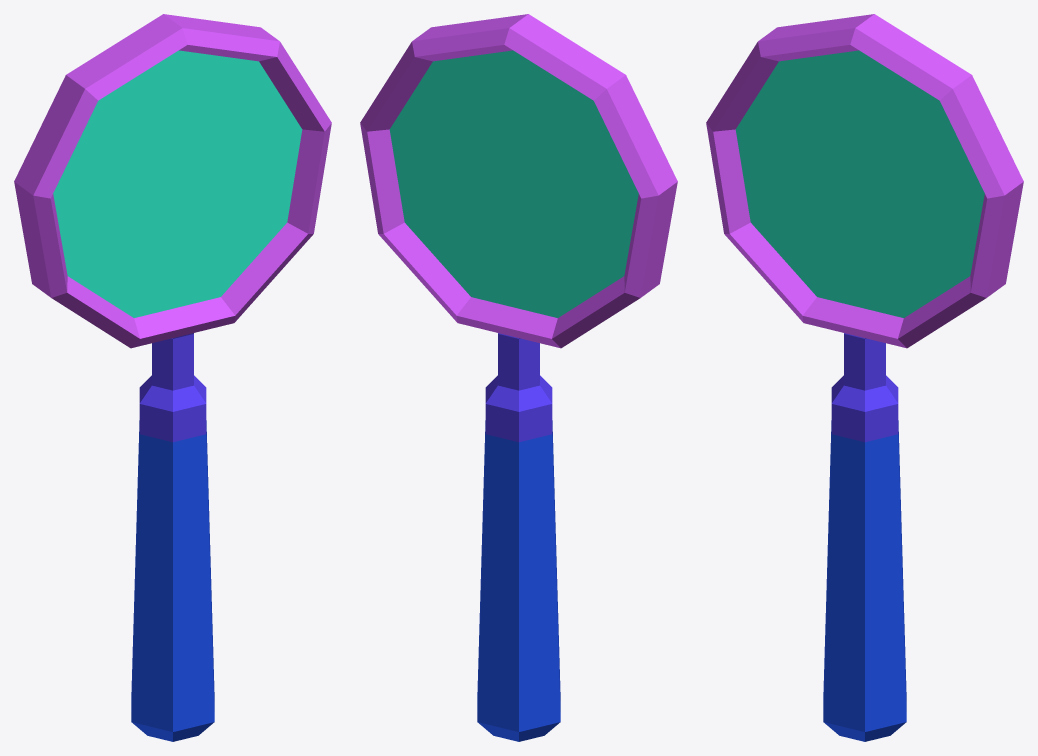
The model's file is 069_Magnifying.fbx.
The picture shows the model from 3 angles, left to right: view 1: azimuth 30°, elevation 25°; view 2: azimuth 150°, elevation 25°; view 3: azimuth 330°, elevation 25°; orthographic projection.
Visible parts, largest first — view 1: MAGNIFYNGGLASS; view 2: MAGNIFYNGGLASS; view 3: MAGNIFYNGGLASS.
Boxes of the visible parts, <box> form: MAGNIFYNGGLASS: <box>14,14,331,741</box>; MAGNIFYNGGLASS: <box>360,14,677,741</box>; MAGNIFYNGGLASS: <box>706,14,1023,741</box>.
Size of the model in its own units: 45.46 by 103 by 11.02.
